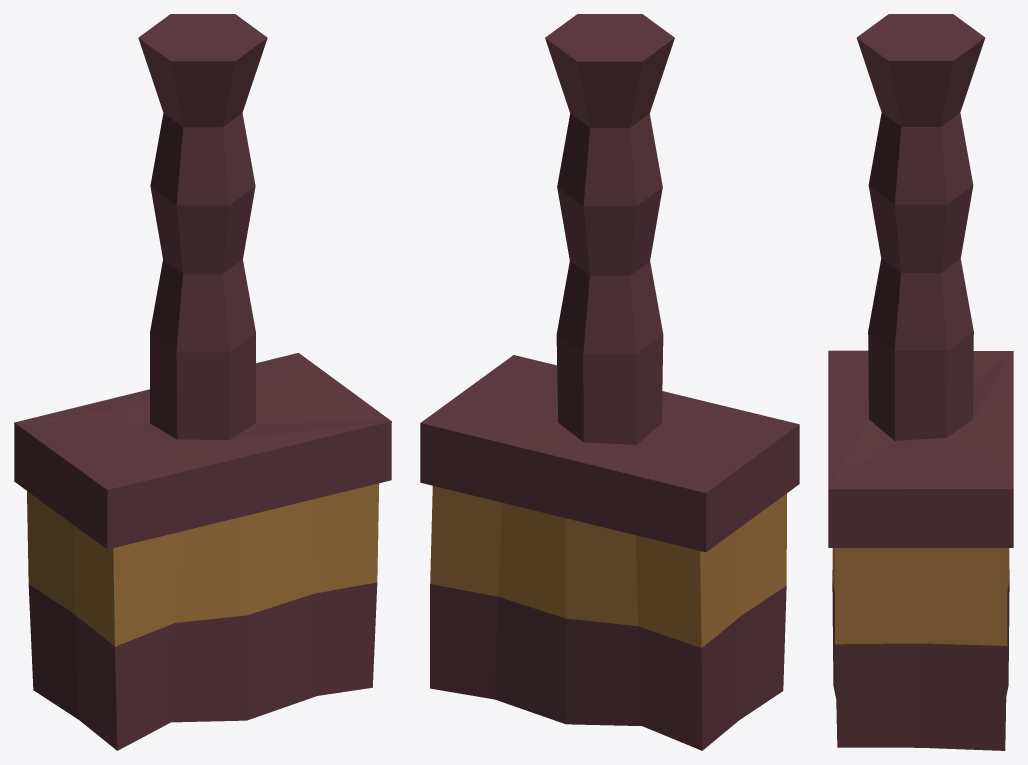
Rendered from brush-square-paint.fbx.
3 views of the same model, side by side, from view 1: azimuth 30°, elevation 25°; view 2: azimuth 150°, elevation 25°; view 3: azimuth 270°, elevation 25° (orthographic).
Parts seen in each view (by area): view 1: brush-square-paint; view 2: brush-square-paint; view 3: brush-square-paint.
Boxes of the visible parts, x1,y1,x2,y2 form: brush-square-paint: (14,14,391,750); brush-square-paint: (420,14,799,750); brush-square-paint: (828,14,1013,750).
Bounding box in the file's own units: 0.0973 × 0.2128 × 0.0551.
